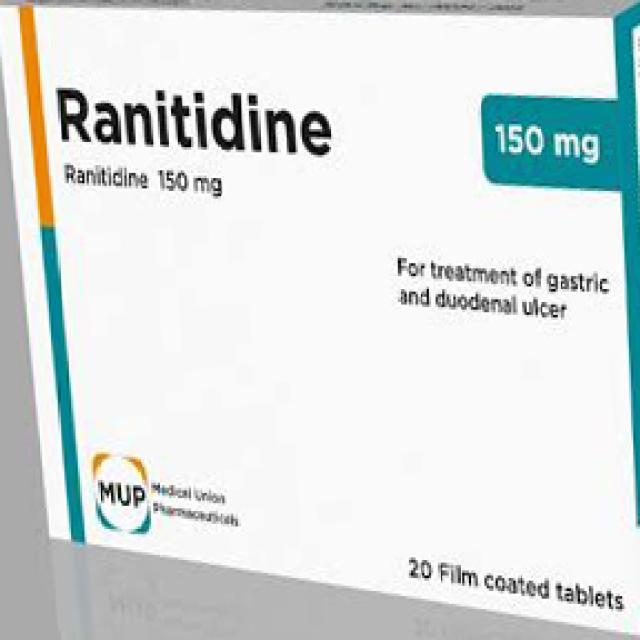drug-name: (54, 84, 334, 160)
